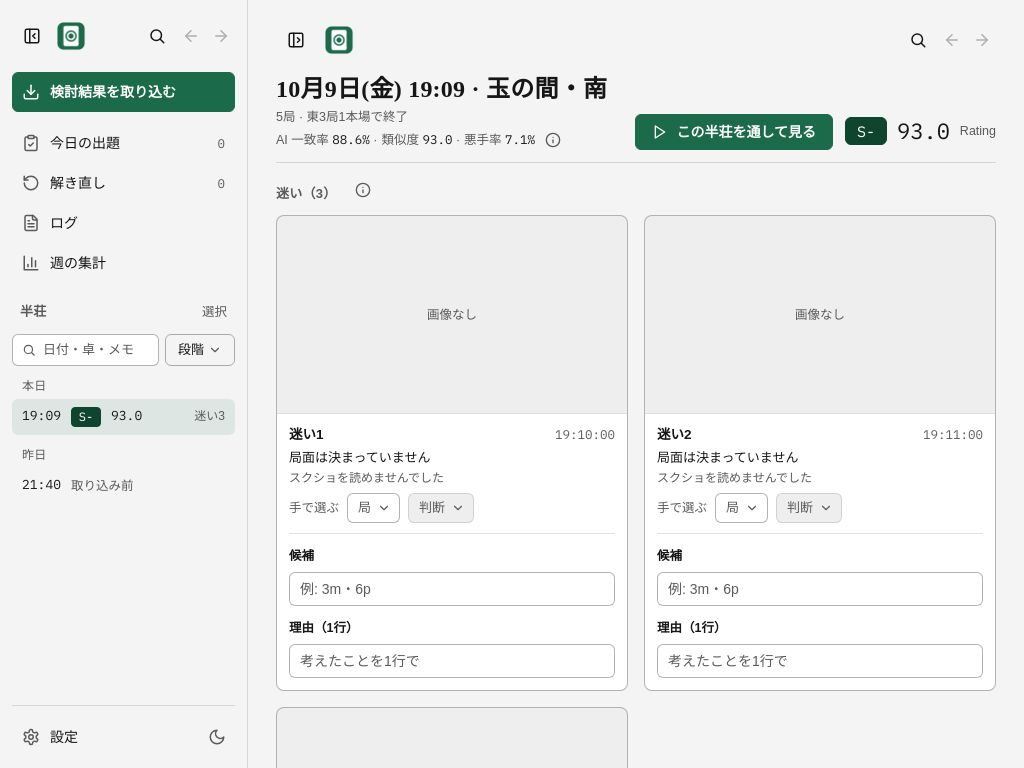
Test: U-32 細い窓: 引き出し › 開くと、サイドバー全体が、ダイアログとして出る。幕が出て、裏（本文）は操作できず、位置は引き出しへ移る。ページはスクロールしない
Expected: the heading "10月9日(金) 19:09 · 玉の間・南" is shown, [276,74,607,105]
Click the button named "サイドバーを".
click(296, 40)  # box [276,20,316,60]
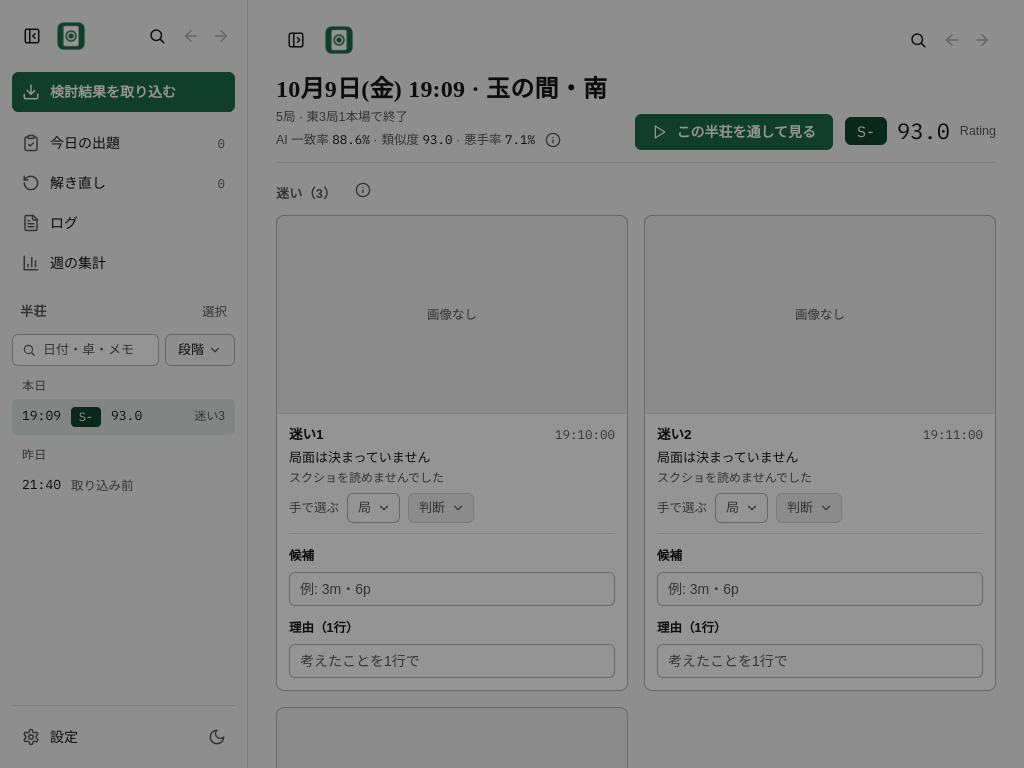
Expected: the button "検討結果を取り込む" is shown, [12,72,235,112]
Now the button is shown
